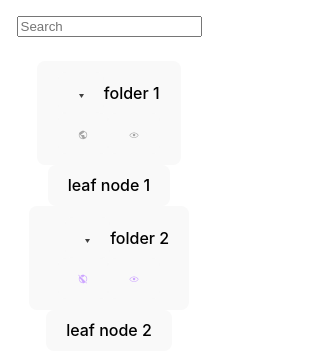
Test case: NavTree › filters folder nodes when the search input changes
Expected: the number of buttons with test id "nav-folder" is 2, [58, 72, 104, 113]; [65, 217, 110, 258]
Type "folder 1" into the field with placeholder "Search" at (109,27), box [16, 16, 202, 37]
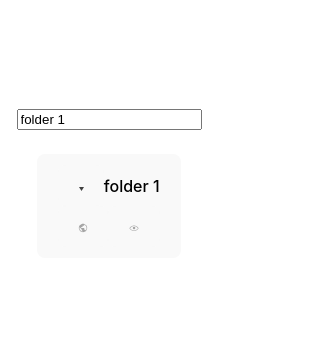
Expected: the number of buttons with test id "nav-folder" is 1, [58, 165, 104, 206]
Replace the text in the field with placeholder "Search" with "folder" at (109,120), box [16, 109, 202, 130]
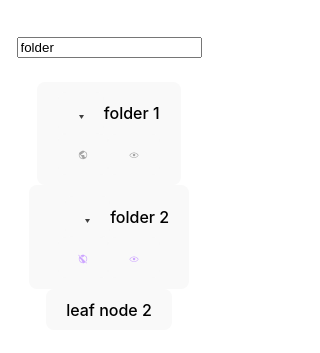
Expected: the number of buttons with test id "nav-folder" is 2, [58, 92, 104, 134]; [65, 196, 110, 237]
